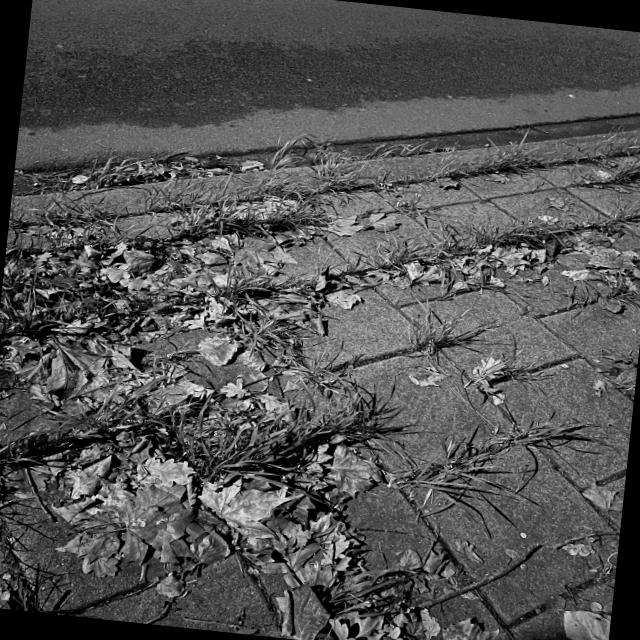leaves: (5, 439, 503, 639), (2, 213, 401, 414), (263, 235, 639, 333), (154, 354, 306, 418), (132, 156, 232, 182), (469, 359, 509, 408), (69, 171, 91, 188), (552, 194, 574, 210)
pavement: (15, 0, 639, 174), (458, 296, 639, 408), (24, 0, 106, 79)
weed: (0, 364, 386, 493), (143, 140, 369, 239), (374, 193, 639, 272), (397, 418, 564, 507), (223, 269, 300, 356), (0, 280, 86, 355), (0, 507, 42, 612), (455, 144, 565, 181), (42, 199, 110, 231), (412, 312, 461, 355), (96, 154, 133, 192)
